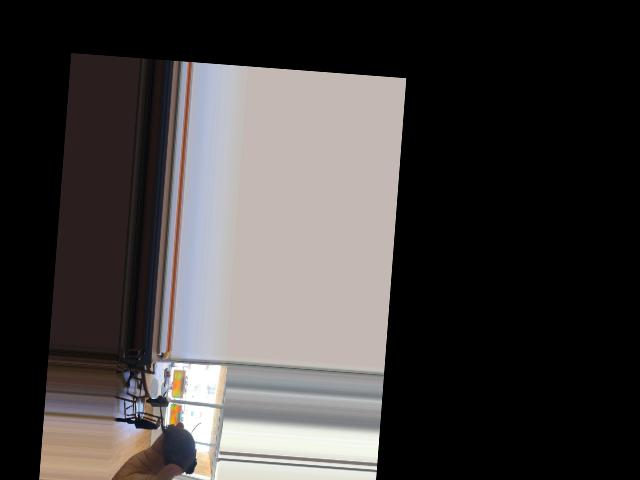beet: (155, 388, 202, 474)
